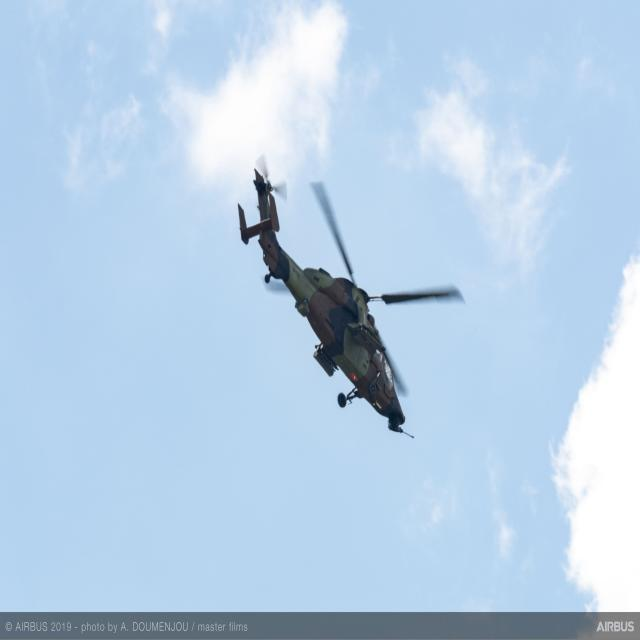helicopter: (232, 159, 465, 440)
